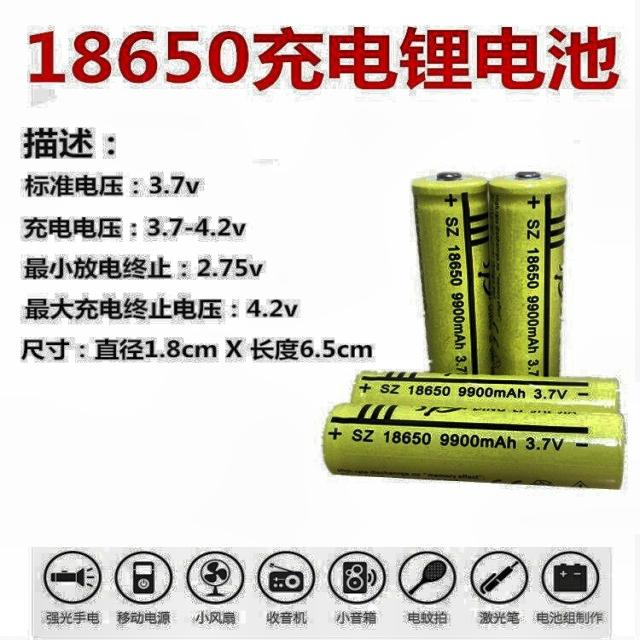Non-Valuable Waste - Batteries: (323, 402, 624, 488), (488, 171, 566, 376), (412, 172, 490, 374), (352, 372, 619, 412)
